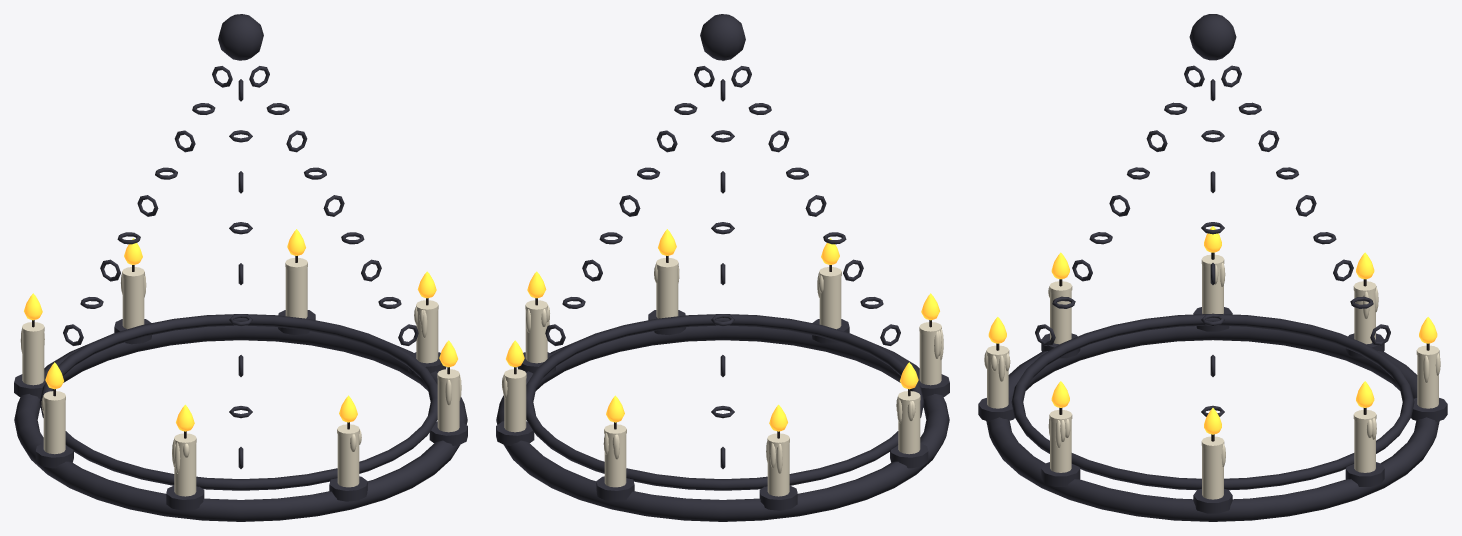
File: magic_chandelier.glb
3 views of the same model, side by side, from view 1: azimuth 30°, elevation 25°; view 2: azimuth 150°, elevation 25°; view 3: azimuth 270°, elevation 25° (orthographic).
Parts seen in each view (by area): view 1: magic_chandelier; view 2: magic_chandelier; view 3: magic_chandelier.
Boxes of the visible parts, bbox=[...] form: magic_chandelier: bbox=[14, 14, 467, 521]; magic_chandelier: bbox=[496, 14, 949, 521]; magic_chandelier: bbox=[978, 14, 1447, 521].
Size of the model in its own units: 1.2 by 1.17 by 1.2.
